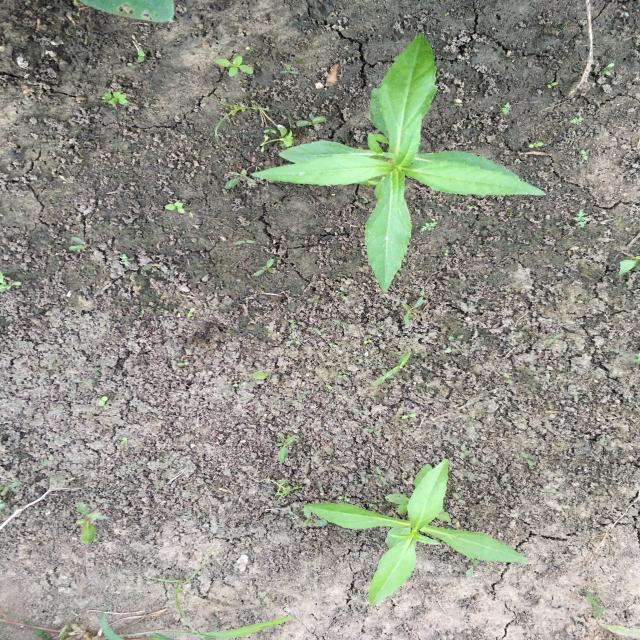Eclipta: (247, 31, 547, 294), (302, 457, 532, 607)
